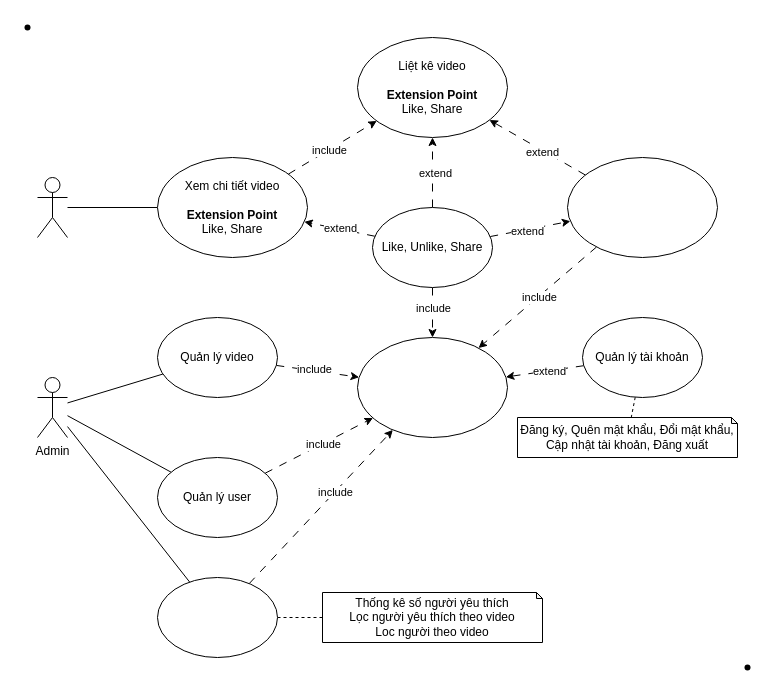
Image size: 775x695. Some labels were removed from this diagram. The box of each missing label's shape, as (x1, y1, x2, y2) in pixels:
Báo cáo: (156, 576, 278, 658)
Liệt kê video yêu thích Extension Point Unlike, Share: (566, 156, 718, 258)
User: (36, 176, 68, 238)
Đăng nhập Extension Point Quản lý tài khoản: (356, 336, 508, 438)
